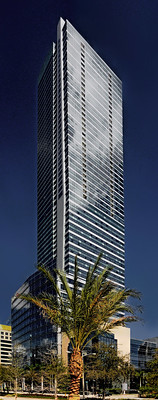medium: (31, 15, 129, 398)
